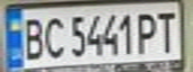1: (115, 10, 136, 55)
4: (84, 10, 106, 57), (103, 10, 121, 56)
5: (66, 11, 87, 58)
B: (18, 14, 48, 61)
C: (42, 12, 66, 61)
P: (136, 8, 160, 54)
T: (154, 7, 181, 53)
